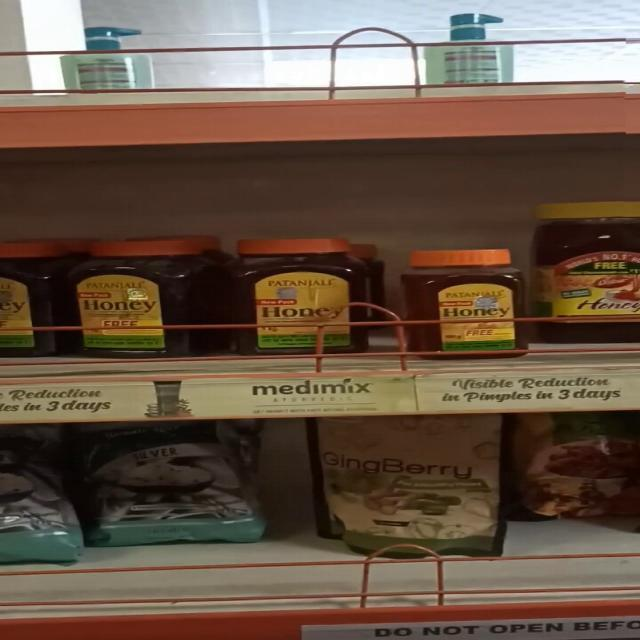Dabur Honey: (524, 196, 640, 342)
Patanjali Honey: (217, 235, 371, 355), (76, 237, 208, 356), (402, 245, 524, 355)
